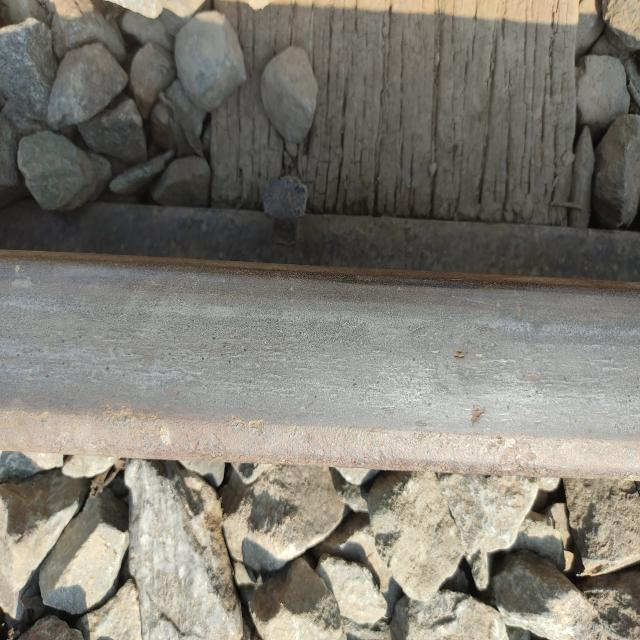No Fault: (56, 262, 626, 461)
